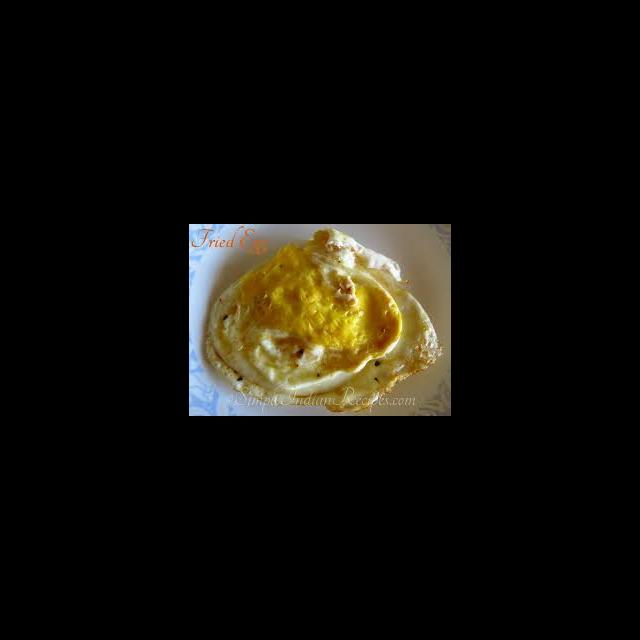food_waste: (217, 250, 436, 411)
